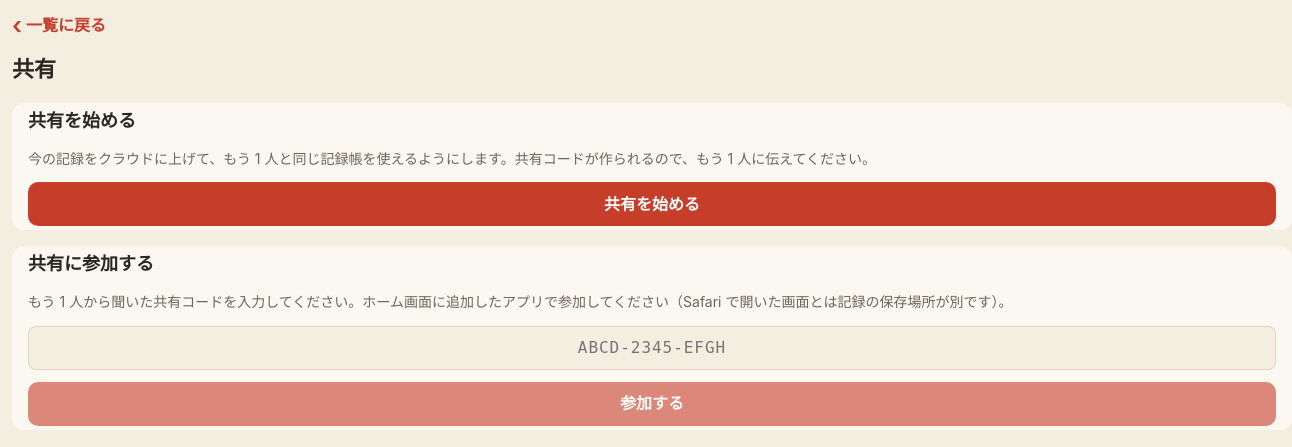
SharePage：共有を始める › 準備している間は押せない
Click the button "共有を始める" at [652, 204], box [28,182,1276,226]
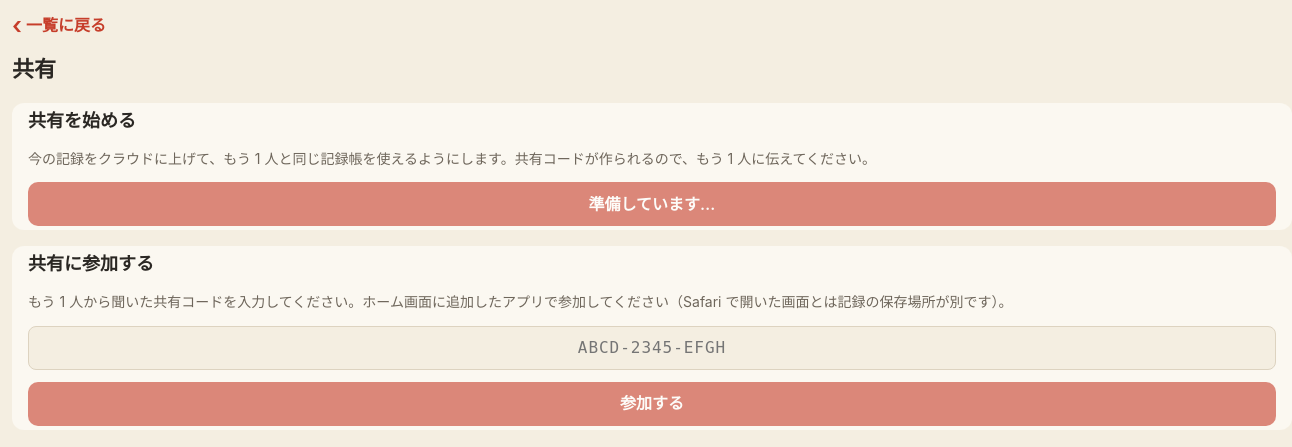
Check: the button "準備しています…" is disabled, box [28,182,1276,226]
